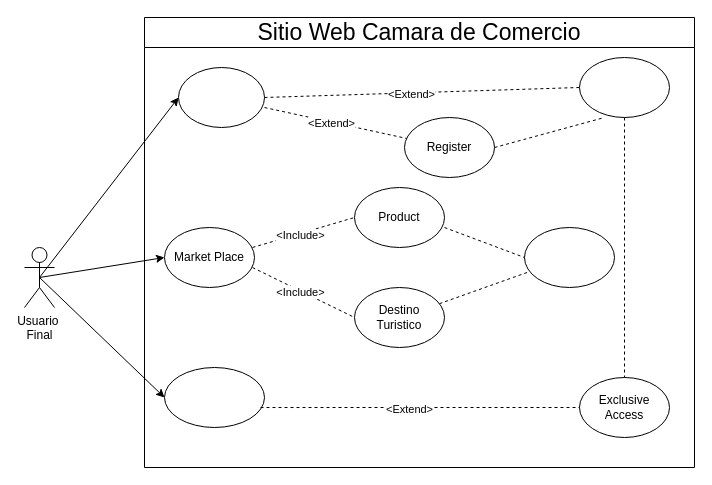
This 712x485 diagram has some shape labels left out. The shapes that lost their labels are listed below. From the top down, each one's centre as x and y in pixels, then its label:
At (x=221, y=97): "Home".
At (x=624, y=87): "Login".
At (x=569, y=257): "check my Cart".
At (x=214, y=397): "Market Acces".
